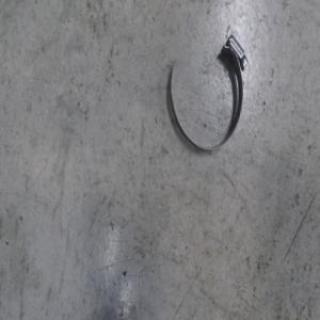AdjustableClamptrack_idkeyframe: (166, 29, 248, 157)
